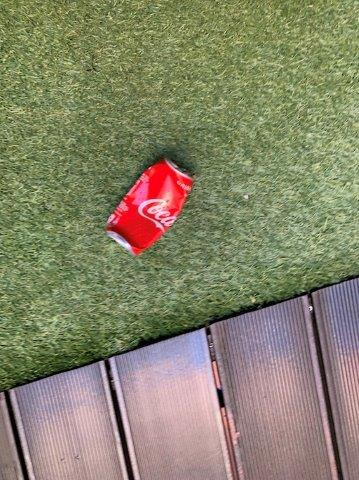kaleng: (108, 159, 192, 254)
